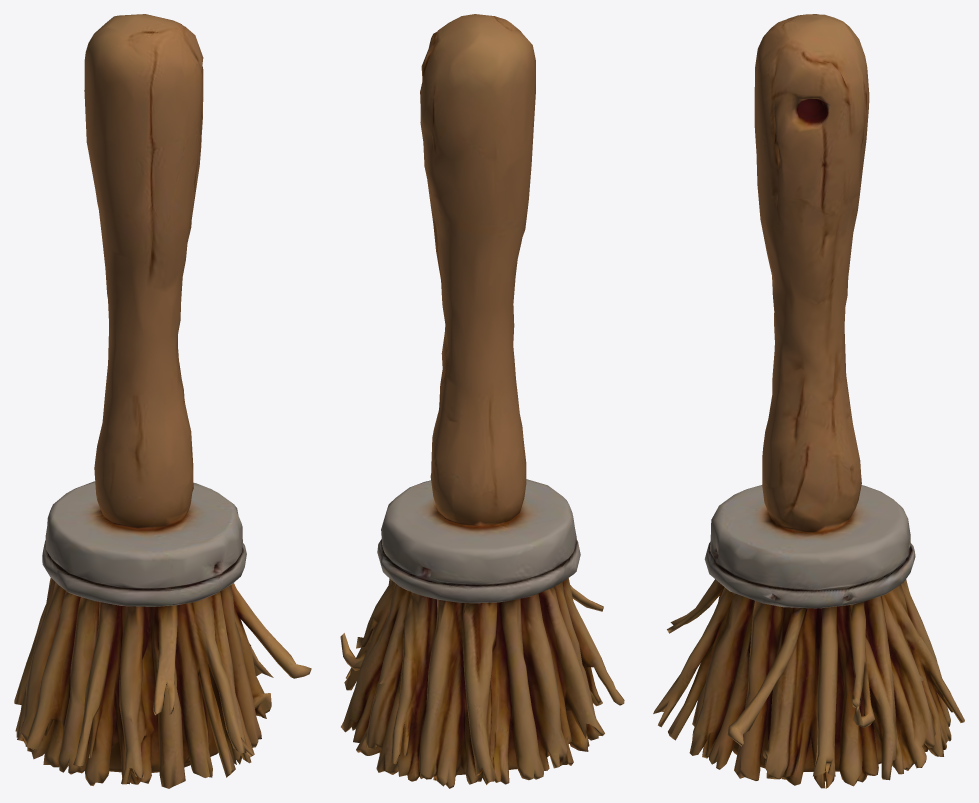
Rendered from brush.glb.
The picture shows the model from 3 angles, left to right: view 1: azimuth 30°, elevation 25°; view 2: azimuth 150°, elevation 25°; view 3: azimuth 270°, elevation 25°; orthographic projection.
Parts seen in each view (by area): view 1: tripo_node_e5b5b11a-9ead-4bba-9e6b-5cd40a00b78d; view 2: tripo_node_e5b5b11a-9ead-4bba-9e6b-5cd40a00b78d; view 3: tripo_node_e5b5b11a-9ead-4bba-9e6b-5cd40a00b78d.
Part boxes in pixels (left/top/right/bottom): tripo_node_e5b5b11a-9ead-4bba-9e6b-5cd40a00b78d: left=14, top=14, right=311, bottom=788; tripo_node_e5b5b11a-9ead-4bba-9e6b-5cd40a00b78d: left=340, top=14, right=624, bottom=788; tripo_node_e5b5b11a-9ead-4bba-9e6b-5cd40a00b78d: left=653, top=14, right=964, bottom=788.
Size of the model in its own units: 0.3718 by 1 by 0.3917.
Materials: 1 (1 with a texture image).
